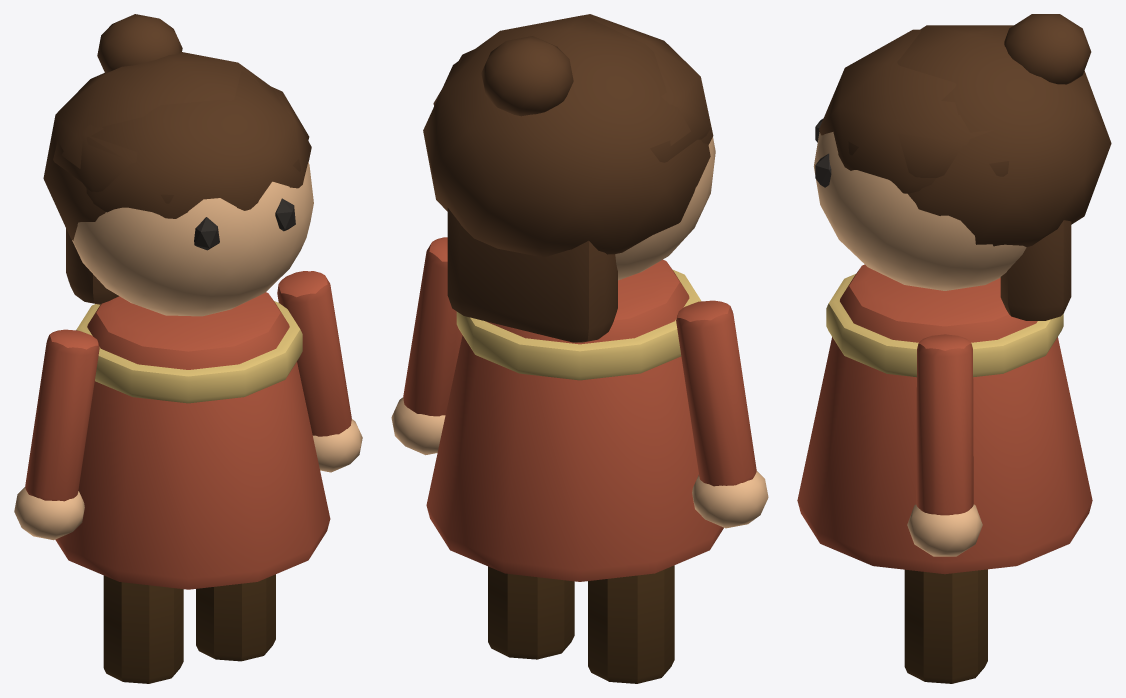
Rendered from character_proxy.glb.
3 renders of one model, left to right at view 1: azimuth 30°, elevation 25°; view 2: azimuth 150°, elevation 25°; view 3: azimuth 270°, elevation 25°, orthographic. The views are drawn at different scales.
Visible parts, largest first — view 1: Torso, Head, Hair00, Hair03, ArmL, LegL, Belt, ArmR, LegR, Hair02_bun, Hair01, HandL (+3 smaller); view 2: Torso, Hair03, Hair03_fall, ArmL, LegL, Belt, LegR, ArmR, Hair02_bun, Head, HandL, Hair01 (+2 smaller); view 3: Torso, Hair03, Head, Hair00, ArmR, LegR, Belt, Hair03_fall, Hair02_bun, Hair01, HandR.
Boxes of the visible parts, box(x1,y1,x2,y2) form: Torso: box(55, 292, 330, 589); Head: box(72, 162, 313, 316); Hair00: box(86, 71, 311, 218); Hair03: box(43, 52, 269, 240); ArmL: box(25, 329, 99, 501); LegL: box(103, 575, 183, 683); Belt: box(76, 301, 302, 403); ArmR: box(277, 271, 351, 436); LegR: box(196, 574, 275, 661); Hair02_bun: box(97, 14, 182, 73); Hair01: box(53, 83, 309, 203); HandL: box(14, 487, 84, 540); Torso: box(426, 259, 723, 581); Hair03: box(423, 15, 710, 257); Hair03_fall: box(447, 208, 617, 342); ArmL: box(676, 300, 756, 486); LegL: box(588, 565, 674, 683); Belt: box(456, 269, 701, 380); LegR: box(488, 566, 574, 659); ArmR: box(403, 237, 462, 416); Hair02_bun: box(481, 36, 573, 116); Head: box(615, 137, 715, 280); HandL: box(692, 471, 768, 528); Hair01: box(433, 49, 710, 162); Torso: box(797, 264, 1092, 574); Hair03: box(897, 25, 1111, 247); Head: box(813, 132, 1026, 290); Hair00: box(819, 29, 958, 193); ArmR: box(916, 334, 973, 515); LegR: box(904, 569, 987, 683); Belt: box(826, 274, 1063, 377); Hair03_fall: box(1000, 220, 1071, 320); Hair02_bun: box(1004, 14, 1091, 84); Hair01: box(848, 115, 1009, 177); HandR: box(907, 504, 982, 556).
Size of the model in its own units: 0.8027 by 1.38 by 0.6224.
